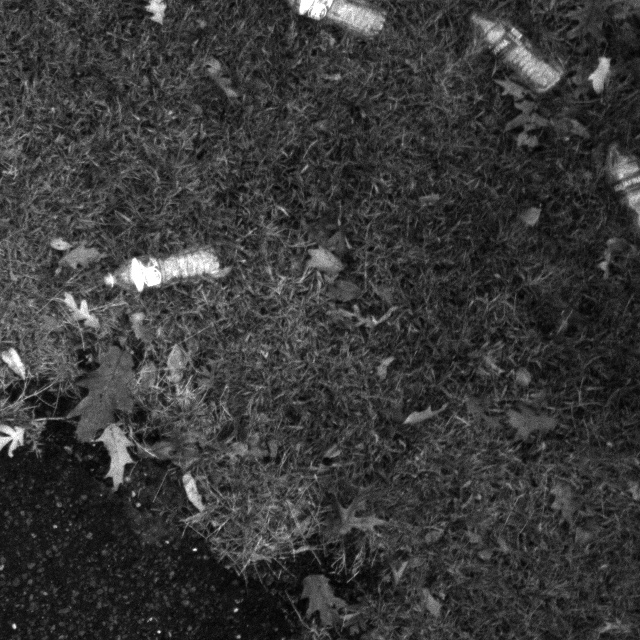bottle: (466, 3, 571, 98), (93, 234, 227, 305)
